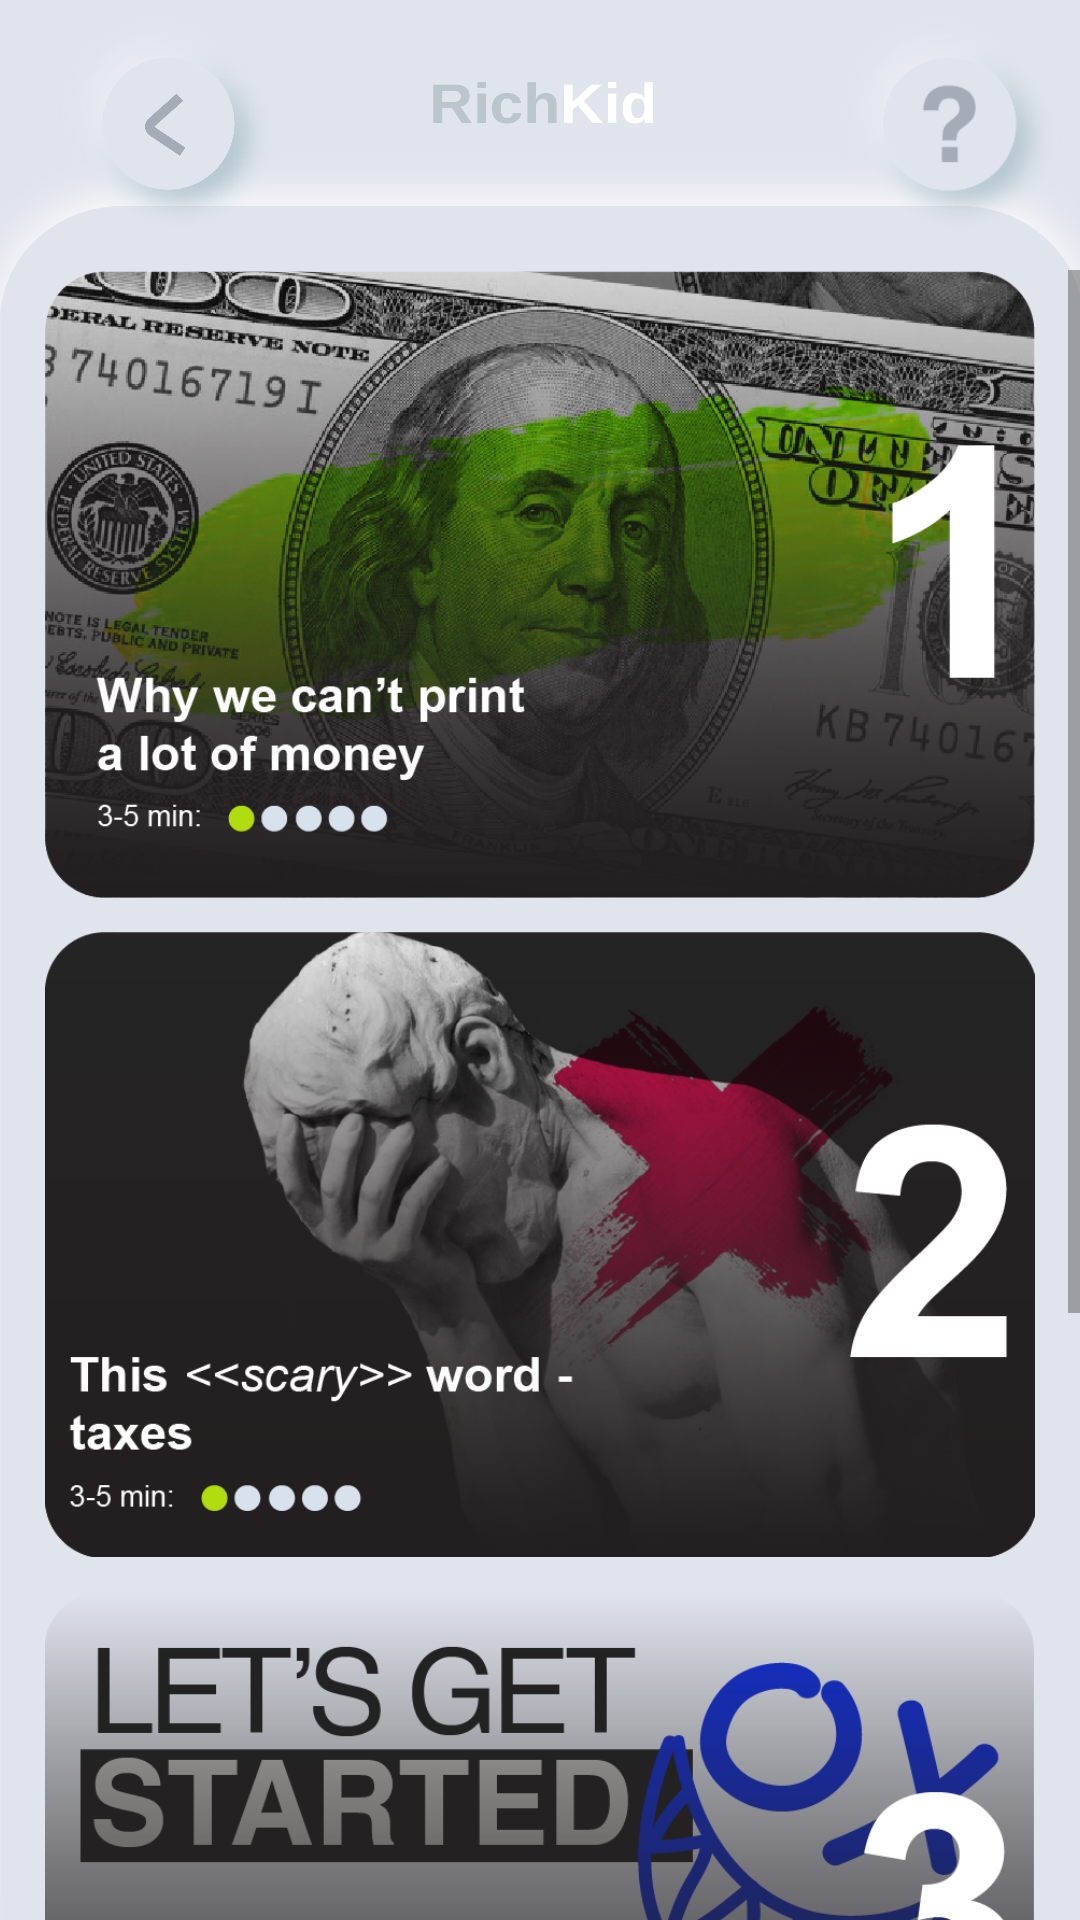

Where icons sit on this 1080*1920 app screen, as (x1, y1, x2, y2):
custom back: (145, 94, 248, 197)
